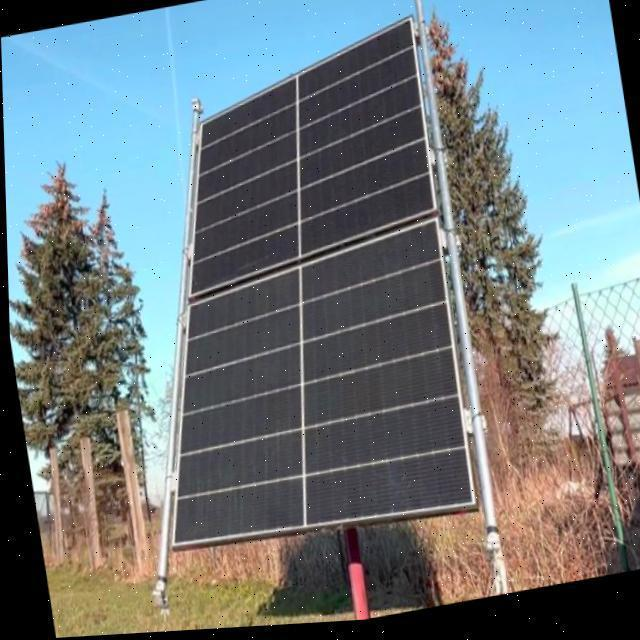Normal Solar Panel: (99, 18, 481, 567)
